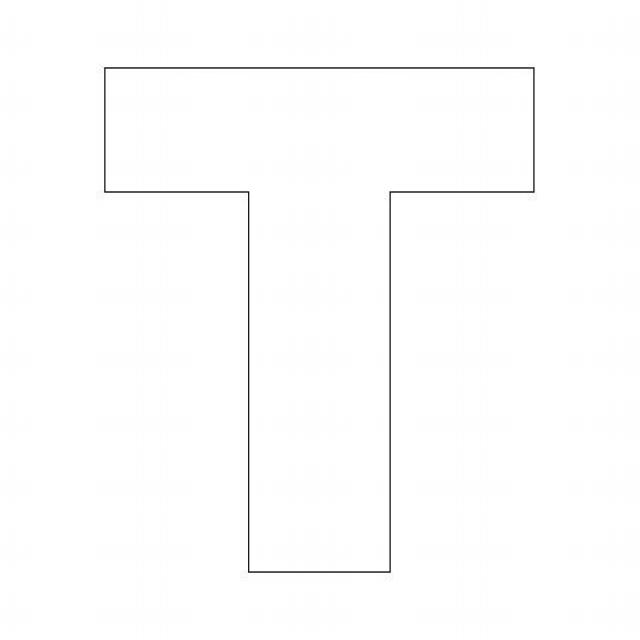T: (50, 26, 560, 600)
